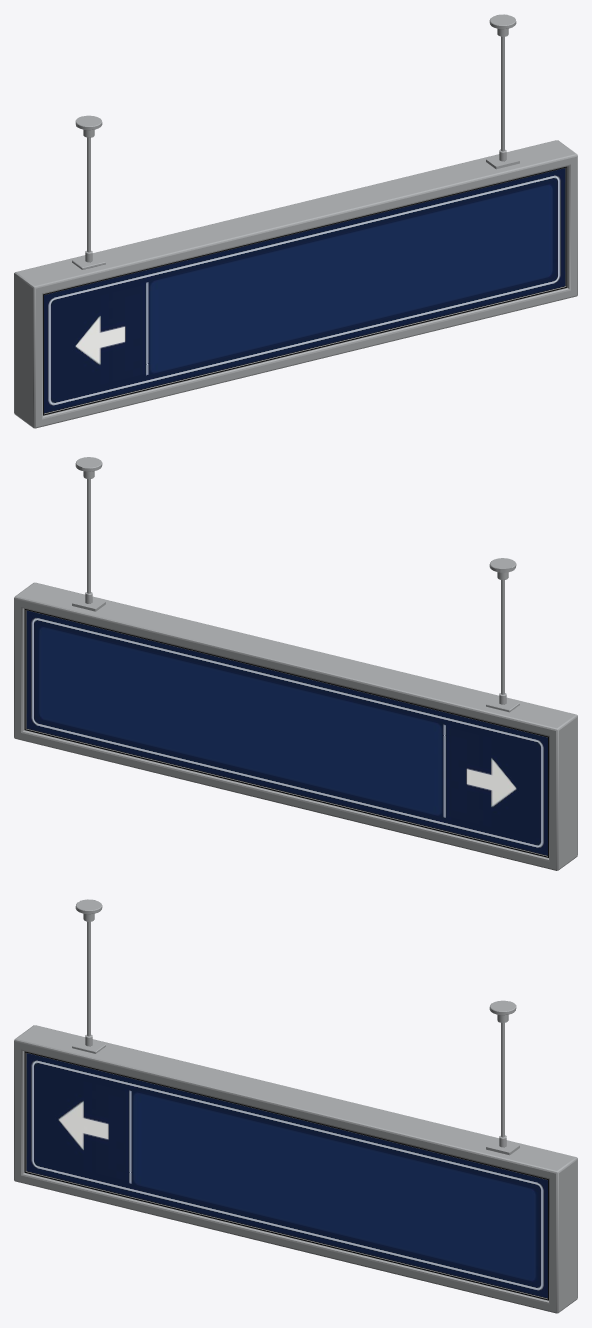
The model's file is gteki_sign_hanging_navy_left.glb.
3 renders of one model, top to bottom at view 1: azimuth 30°, elevation 25°; view 2: azimuth 150°, elevation 25°; view 3: azimuth 330°, elevation 25°, orthographic.
Visible parts, largest first — view 1: VIS_faces, VIS_frame, VIS_mount; view 2: VIS_faces, VIS_frame, VIS_mount; view 3: VIS_faces, VIS_frame, VIS_mount.
Part boxes in pixels (x1,y1,x2,y2): VIS_faces: (44,168,565,412); VIS_frame: (14,140,577,428); VIS_mount: (72,14,519,269); VIS_faces: (26,610,547,855); VIS_frame: (14,582,577,870); VIS_mount: (72,457,519,712); VIS_faces: (26,1053,547,1297); VIS_frame: (14,1025,577,1313); VIS_mount: (72,899,519,1155).
Size of the model in its own units: 1.8 by 0.9 by 0.12.
Materials: 4 (2 with a texture image).
